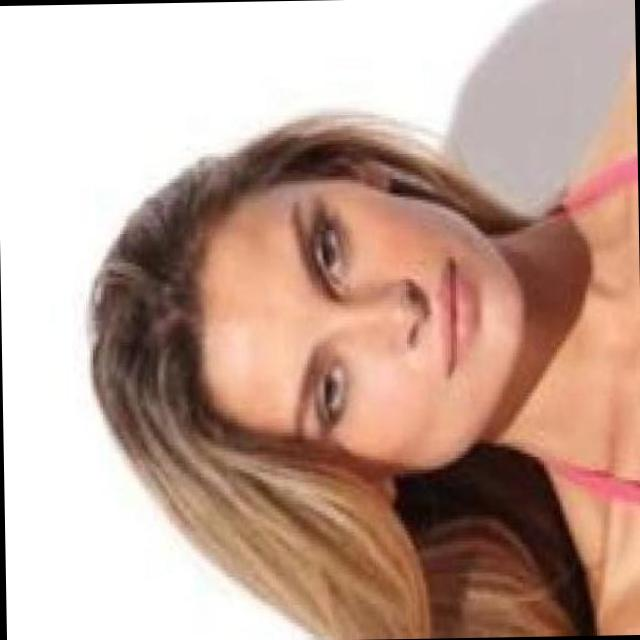bareface: (123, 106, 523, 514)
